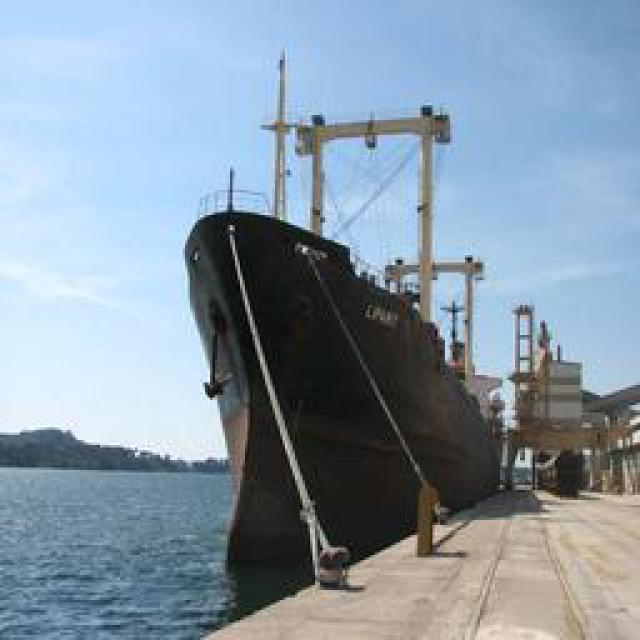Ship: (183, 189, 501, 579)
